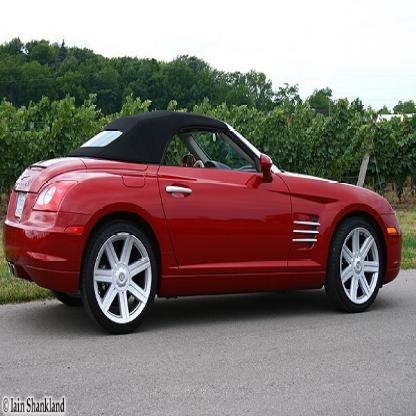Vehicle: (3, 114, 402, 342)
